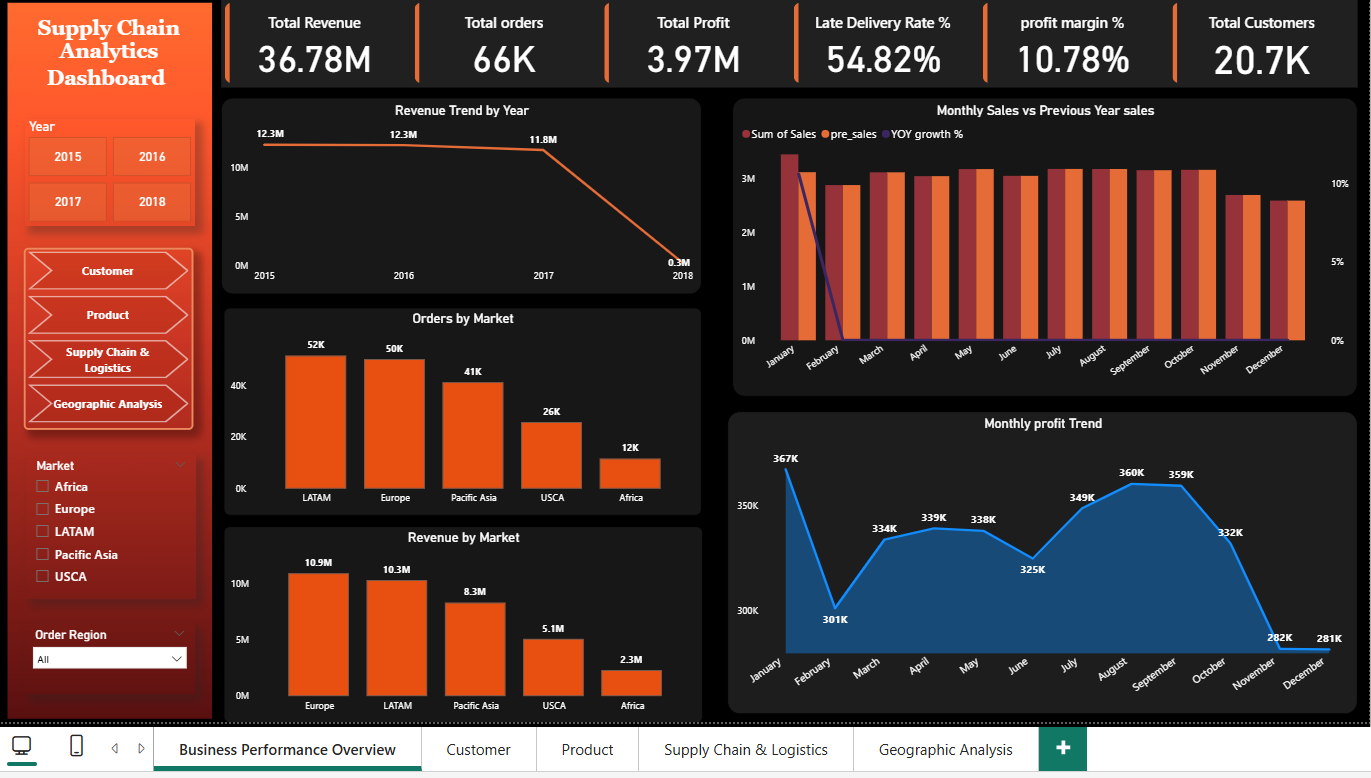

This screenshot's page, from the dashboard's own definition file:
{"tool":"powerbi","page":{"name":"Business Performance Overview ","canvas":[1762,928],"ordinal":0},"visuals":[{"type":"cardVisual","title":"KPIs:","fields":{"Data":["Sum(fact_orders.Sales)","fact_orders.Total_orders","Sum(fact_orders.Order Profit Per Order)","fact_orders.late_delivery %","fact_orders.profit margin","CountNonNull(DimCustomer.Customer Id)"]},"box":[290.2,0,1457.4,113.8],"z":0},{"type":"lineChart","title":"Revenue Trend by Year","fields":{"Category":["fact_orders.order date (DateOrders).Variation.Date Hierarchy.Year","fact_orders.order date (DateOrders).Variation.Date Hierarchy.Quarter","fact_orders.order date (DateOrders).Variation.Date Hierarchy.Month","fact_orders.order date (DateOrders).Variation.Date Hierarchy.Day"],"Y":["Sum(fact_orders.Sales)"]},"box":[290.2,126.7,615.7,251.7],"z":1000},{"type":"clusteredColumnChart","title":"Revenue by Market","fields":{"Category":["fact_orders.Market"],"Y":["Sum(fact_orders.Sales)"]},"box":[293.4,676.6,614.1,251.7],"z":2000},{"type":"clusteredColumnChart","title":" Orders  by Market","fields":{"Category":["fact_orders.Market"],"Y":["CountNonNull(fact_orders.Order Id)"]},"box":[293.4,396,612.5,266.2],"z":3000},{"type":"image","box":[11.2,0,272.6,928.3],"z":4000},{"type":"lineChart","title":"Monthly profit Trend","fields":{"Category":["fact_orders.order date (DateOrders).Variation.Date Hierarchy.Year","fact_orders.order date (DateOrders).Variation.Date Hierarchy.Quarter","fact_orders.order date (DateOrders).Variation.Date Hierarchy.Month","fact_orders.order date (DateOrders).Variation.Date Hierarchy.Day"],"Y":["Sum(fact_orders.Order Profit Per Order)"]},"box":[939.5,529.1,808.1,388],"z":5000},{"type":"textbox","box":[36.9,16,218.1,121.9],"z":6000},{"type":"lineClusteredColumnComboChart","title":"Monthly Sales vs Previous Year sales","fields":{"Category":["fact_orders.order date (DateOrders).Variation.Date Hierarchy.Month"],"Y":["Sum(fact_orders.Sales)","fact_orders.pre_sales"],"Y2":["fact_orders.YOY growth %"]},"box":[946,126.7,801.7,383.2],"z":7000},{"type":"advancedSlicerVisual","fields":{"Values":["fact_orders.order date (DateOrders).Variation.Date Hierarchy.Year"]},"box":[38.5,153.9,218.1,137.9],"z":8000},{"type":"pageNavigator","box":[37.1,319,217.5,233.6],"z":9000},{"type":"slicer","fields":{"Values":["fact_orders.Market"]},"box":[40.3,584.8,217.5,183.6],"z":10000},{"type":"slicer","fields":{"Values":["fact_orders.Order Region"]},"box":[38.7,802.2,217.5,90.2],"z":11000}]}

Visuals, with their boxes on the page's 1762x928 design canvas (x1, y1, x2, y2). These are canvas units, not pixel positions in the 1371x778 screenshot, which may show the page scaled, cropped or inside an application window:
"KPIs:" cardVisual: crop(290, 0, 1748, 114)
"Revenue Trend by Year" lineChart: crop(290, 127, 906, 378)
"Revenue by Market" clusteredColumnChart: crop(293, 677, 908, 928)
" Orders  by Market" clusteredColumnChart: crop(293, 396, 906, 662)
image: crop(11, 0, 284, 928)
"Monthly profit Trend" lineChart: crop(940, 529, 1748, 917)
textbox: crop(37, 16, 255, 138)
"Monthly Sales vs Previous Year sales" lineClusteredColumnComboChart: crop(946, 127, 1748, 510)
advancedSlicerVisual - fact_orders.order date (DateOrders).Variation.Date Hierarchy.Year: crop(38, 154, 257, 292)
pageNavigator: crop(37, 319, 255, 553)
slicer - fact_orders.Market: crop(40, 585, 258, 768)
slicer - fact_orders.Order Region: crop(39, 802, 256, 892)
